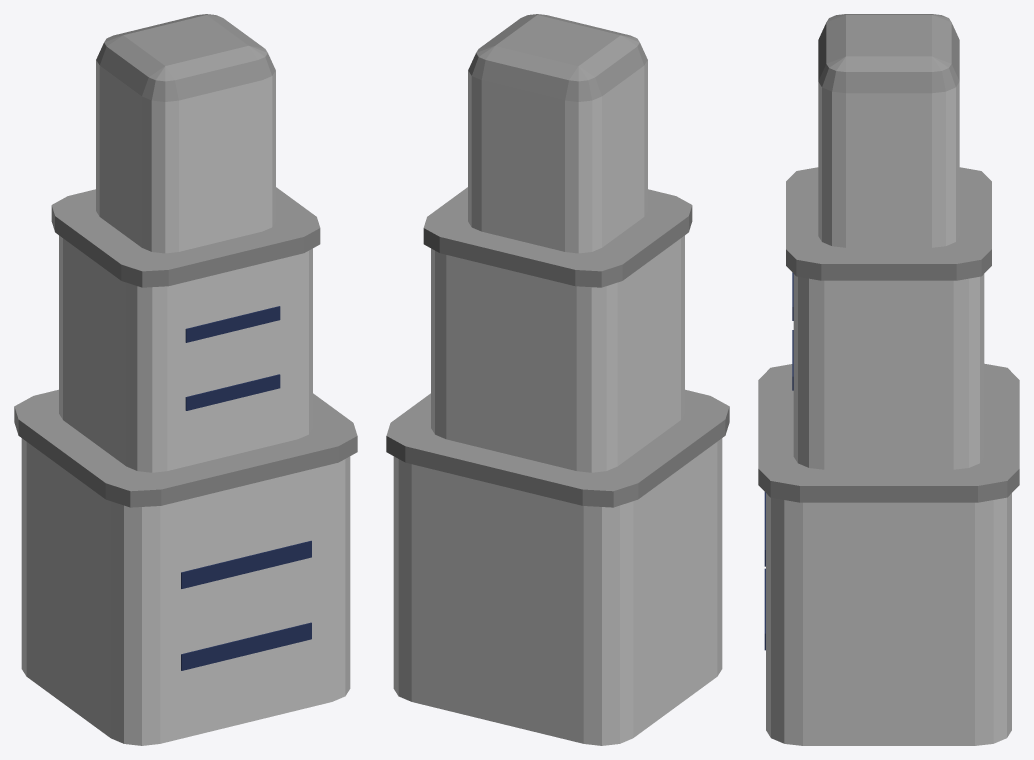
The model's file is tower_stepped.obj.
The picture shows the model from 3 angles, left to right: view 1: azimuth 30°, elevation 25°; view 2: azimuth 150°, elevation 25°; view 3: azimuth 270°, elevation 25°; orthographic projection. The views are drawn at different scales.
Size of the model in its own units: 19 by 46.8 by 17.
